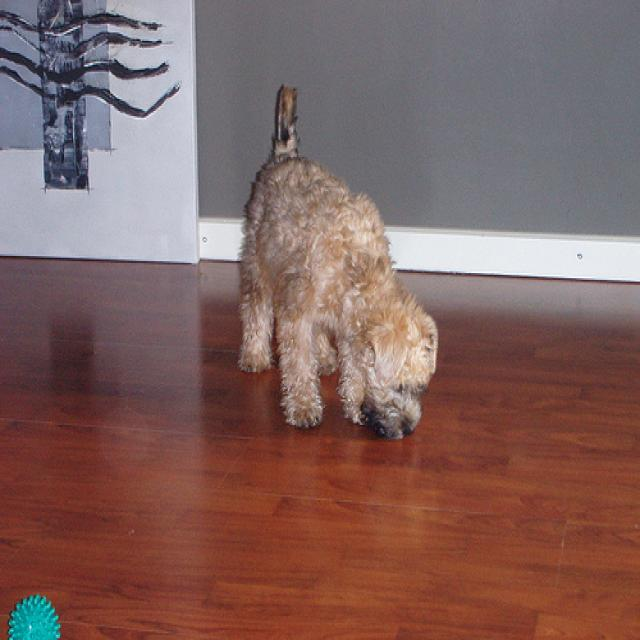dog-wheaten_terrier: (233, 79, 442, 444)
